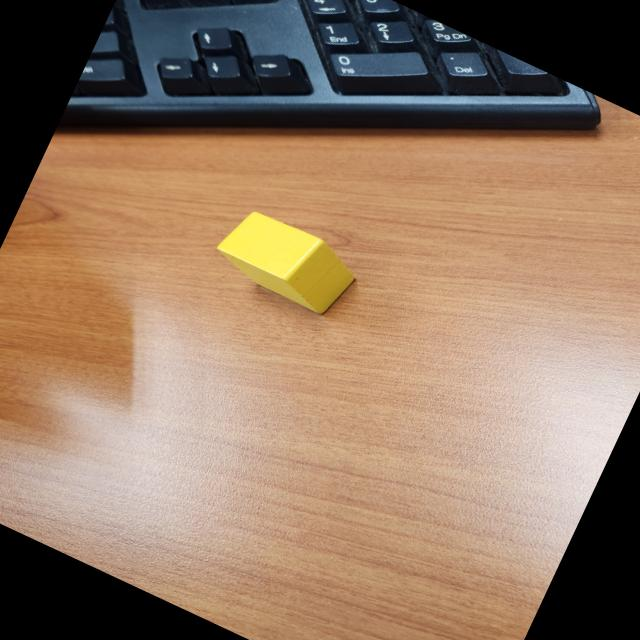yellow: (208, 200, 366, 324)
